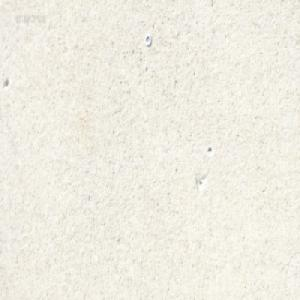Washer: (144, 33, 151, 46)
